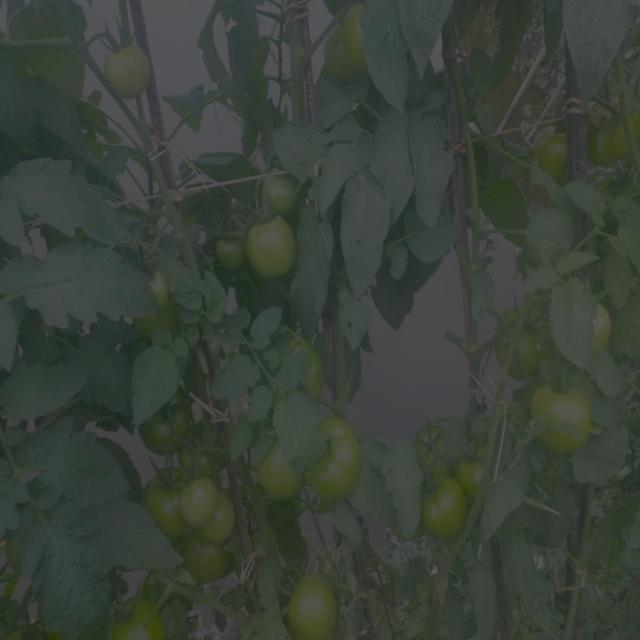tomato: (536, 379, 592, 453), (313, 422, 363, 502), (143, 463, 188, 546), (289, 571, 341, 640), (247, 215, 294, 281), (144, 396, 195, 456), (423, 473, 469, 538), (105, 43, 152, 104), (108, 595, 170, 640), (182, 537, 236, 588), (261, 442, 305, 499), (184, 471, 216, 542), (505, 307, 540, 371), (146, 278, 183, 337), (341, 2, 366, 76), (320, 31, 351, 82), (599, 109, 627, 162), (262, 174, 297, 216), (541, 132, 570, 179), (414, 425, 444, 470), (216, 234, 246, 278), (459, 456, 486, 494), (211, 492, 236, 533), (599, 302, 616, 352)
